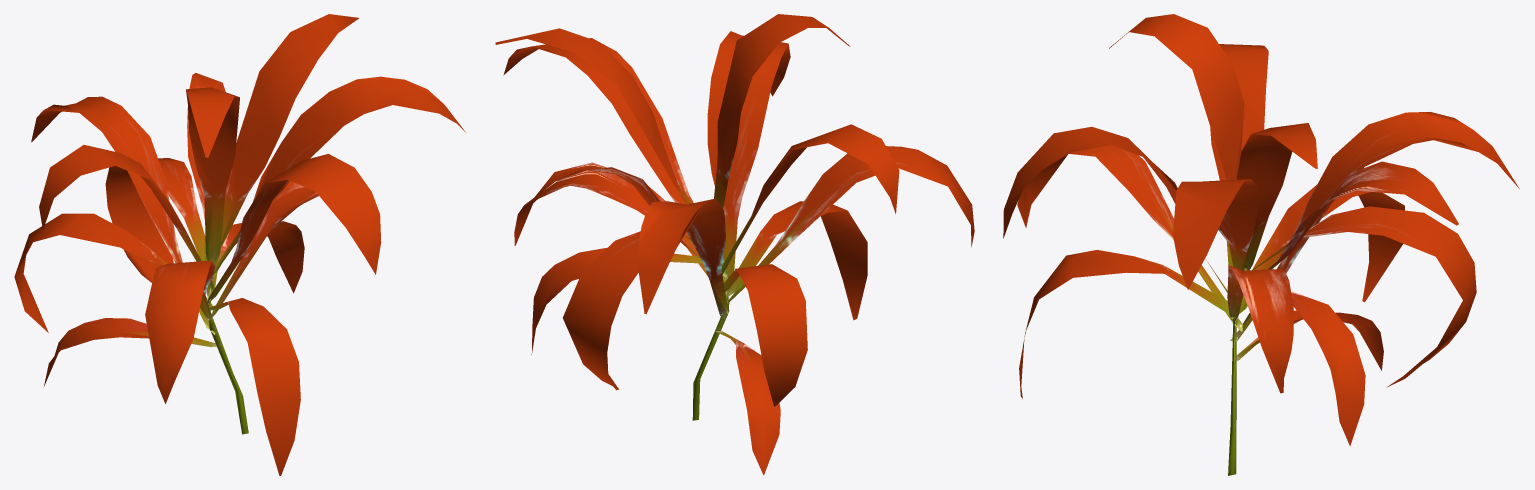
The model's file is alien_plant_1_LOD2.fbx.
3 views of the same model, side by side, from view 1: azimuth 30°, elevation 25°; view 2: azimuth 150°, elevation 25°; view 3: azimuth 270°, elevation 25° (orthographic). The views are drawn at different scales.
Parts seen in each view (by area): view 1: alien_plant_LOD2; view 2: alien_plant_LOD2; view 3: alien_plant_LOD2.
Part boxes in pixels (x1,y1,x2,y2): alien_plant_LOD2: [14, 14, 465, 475]; alien_plant_LOD2: [495, 14, 974, 475]; alien_plant_LOD2: [1003, 14, 1519, 475].
Size of the model in its own units: 165 by 148 by 166.
